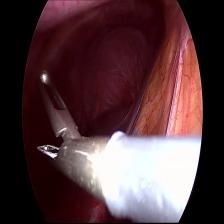Grasper: (30, 64, 105, 208)
